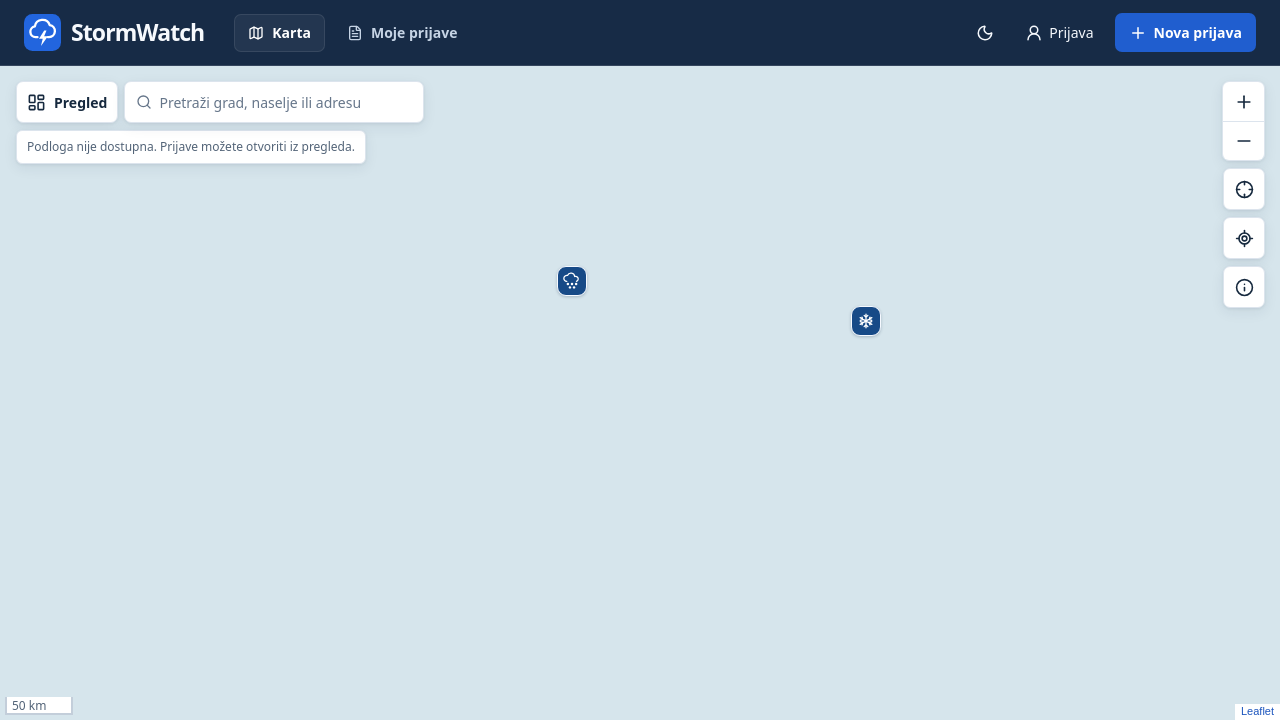
Test: karta, pojedinačni markeri i paneli › klik na marker otvara detalje te prijave; Escape zatvara panel
The image size is (1280, 720).
Click the 2nd button with class "observation-pin" at (866, 321), box [851,306,881,336]
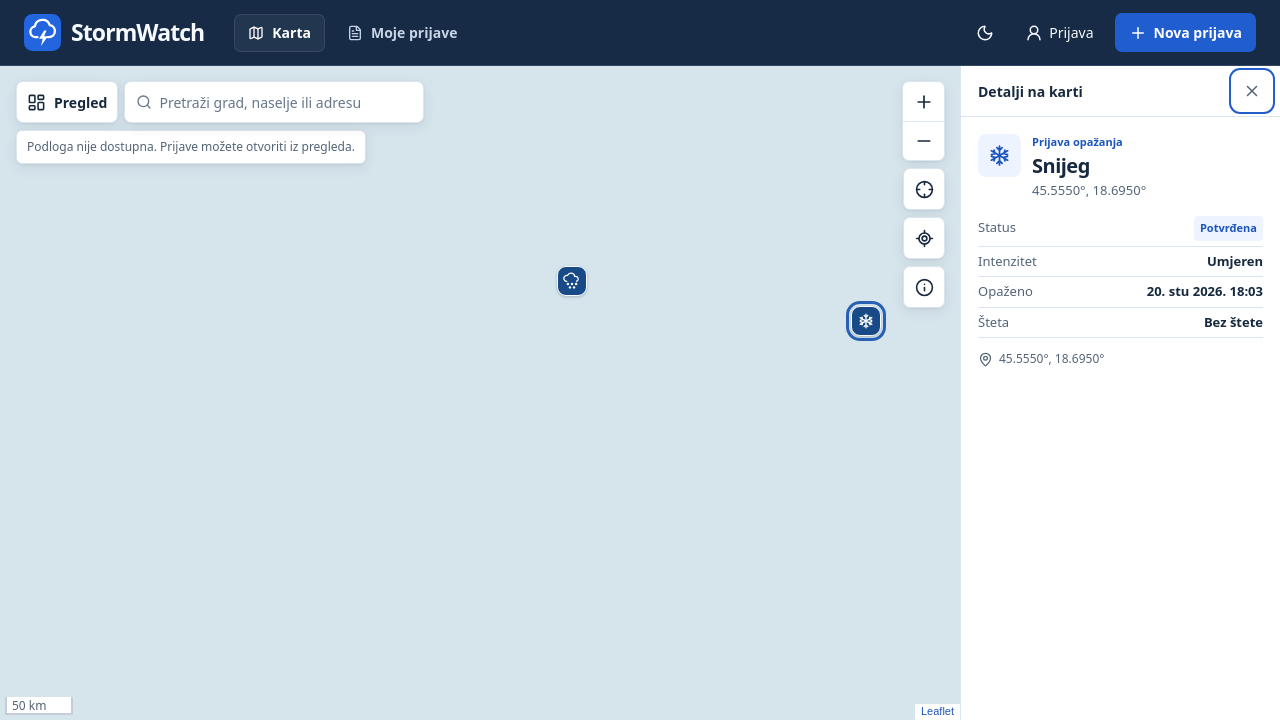
Result: the element with class "detail" is shown at [960,66,1279,719]
Result: the heading "Snijeg" is shown at [1032,152,1090,178]
Result: the text "Umjeren" is shown at [1207,252,1263,271]
Press Escape
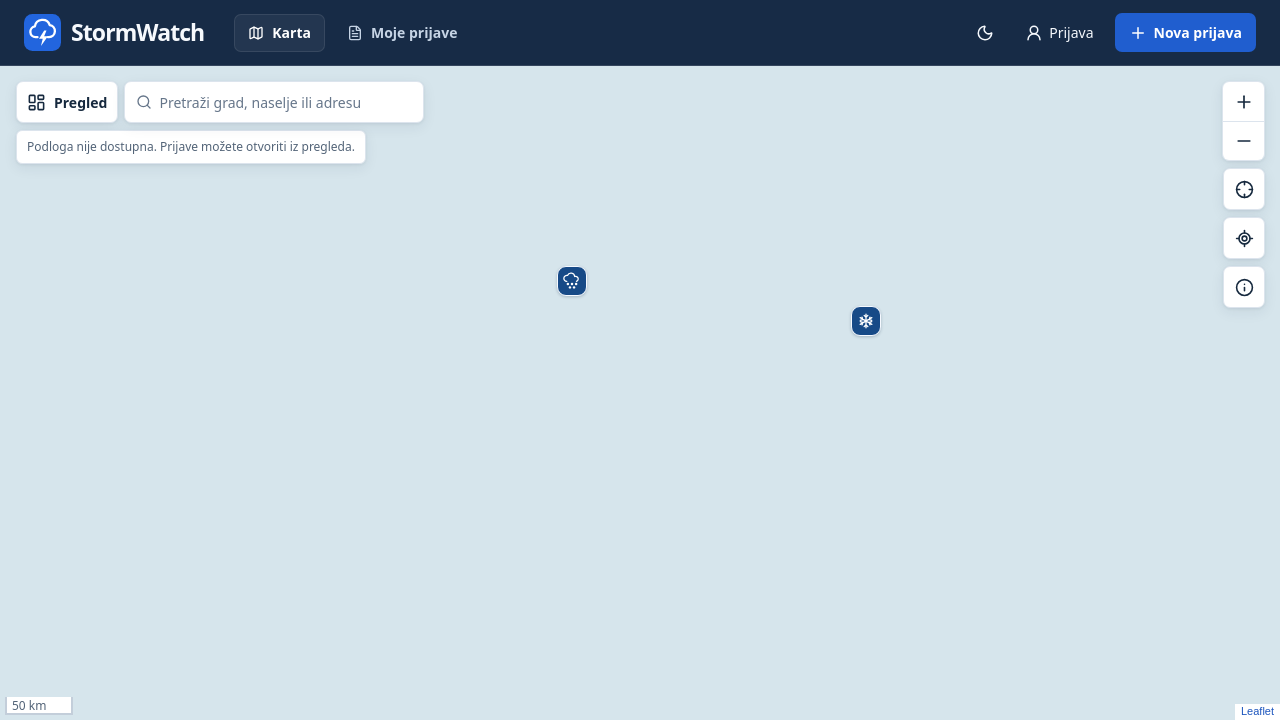
Result: the element with class "detail" is gone
